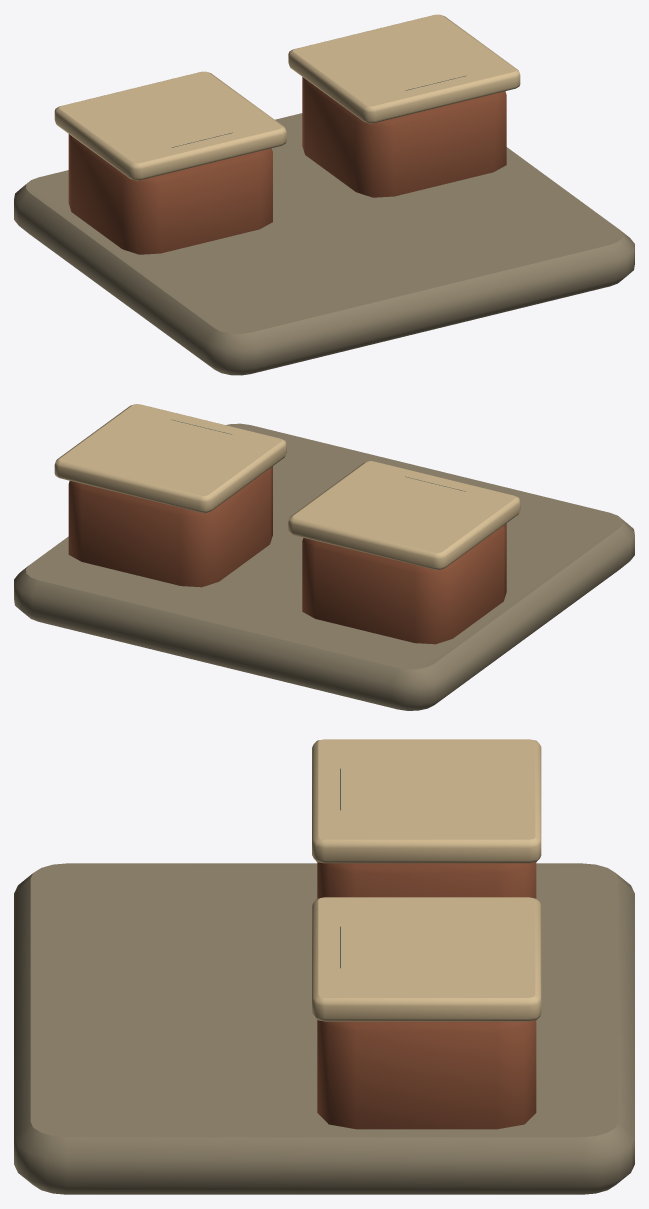
Rendered from annex_workshop_2.glb.
3 views of the same model, one above another, from view 1: azimuth 30°, elevation 25°; view 2: azimuth 150°, elevation 25°; view 3: azimuth 270°, elevation 25° (orthographic). The views are drawn at different scales.
Visible parts, largest first — view 1: Annex_workshop_2; view 2: Annex_workshop_2; view 3: Annex_workshop_2.
Boxes of the visible parts, x1,y1,x2,y2 form: Annex_workshop_2: (14,14,634,375); Annex_workshop_2: (14,404,634,710); Annex_workshop_2: (14,739,634,1194).
Size of the model in its own units: 1.93 by 0.5924 by 1.76.
